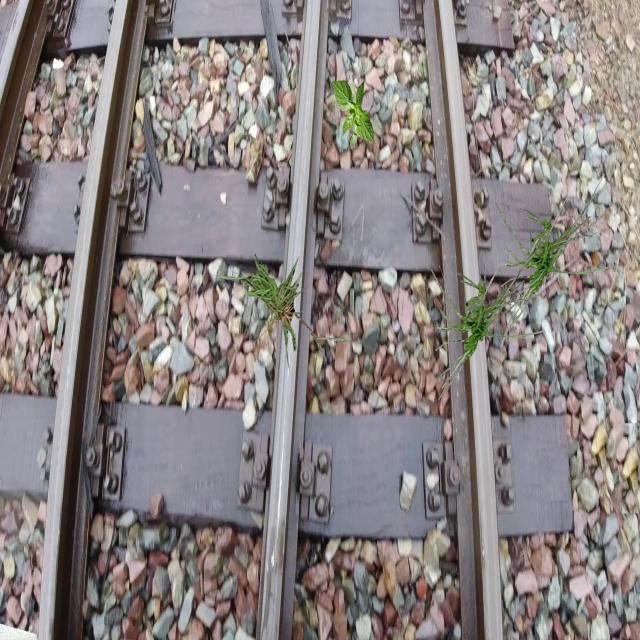Plant: (493, 173, 612, 337), (428, 237, 546, 400), (207, 253, 350, 372), (333, 78, 374, 149)
